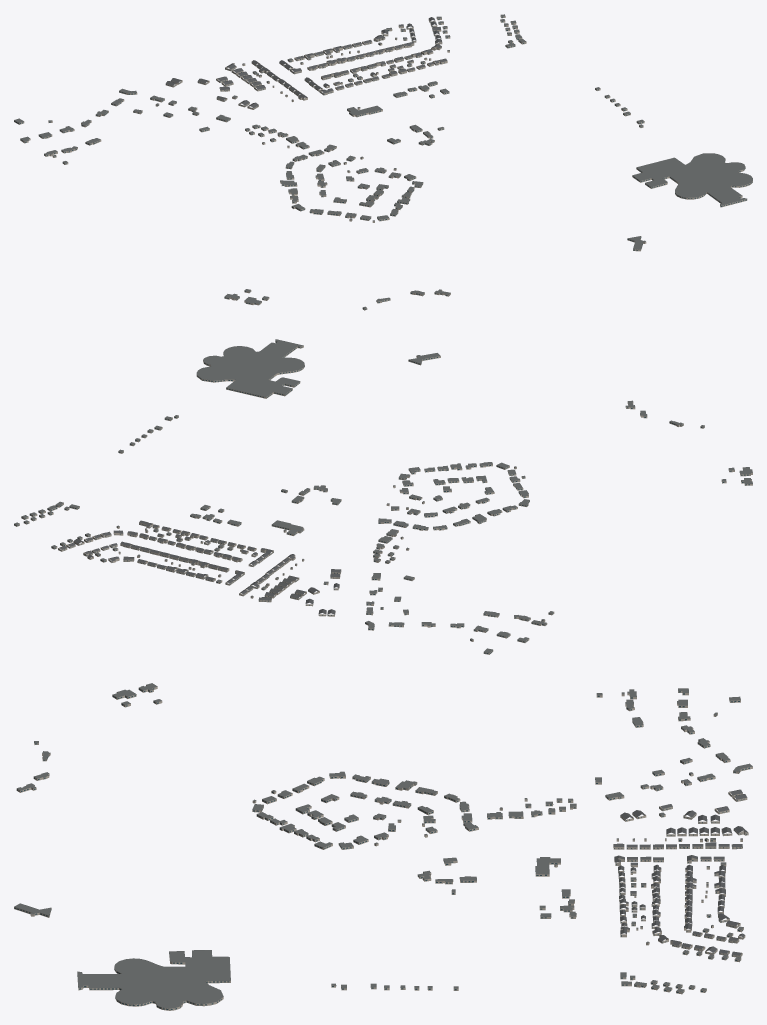
3 renders of one model, top to bottom at view 1: azimuth 30°, elevation 25°; view 2: azimuth 150°, elevation 25°; view 3: azimuth 270°, elevation 25°, orthographic. The views are drawn at different scales.
Parts seen in each view (by area): view 1: Buildings (0, -3) Roof membrane, Buildings (0, -3) Masonry brick, Buildings (0, -3) Roof shingles, Buildings (0, -3) Architectural tinted glass, Buildings (0, -3) House siding; view 2: Buildings (0, -3) Roof membrane, Buildings (0, -3) Masonry brick, Buildings (0, -3) Roof shingles, Buildings (0, -3) Architectural tinted glass, Buildings (0, -3) House siding; view 3: Buildings (0, -3) Roof membrane, Buildings (0, -3) Masonry brick, Buildings (0, -3) Roof shingles, Buildings (0, -3) Architectural tinted glass, Buildings (0, -3) House siding, Buildings (0, -3) Metal coping.
Boxes of the visible parts, <box> form: Buildings (0, -3) Roof membrane: <box>14,14,752,308</box>; Buildings (0, -3) Masonry brick: <box>14,16,752,310</box>; Buildings (0, -3) Roof shingles: <box>166,17,447,107</box>; Buildings (0, -3) Architectural tinted glass: <box>14,16,752,309</box>; Buildings (0, -3) House siding: <box>216,19,442,101</box>; Buildings (0, -3) Roof membrane: <box>14,339,752,652</box>; Buildings (0, -3) Masonry brick: <box>14,341,752,654</box>; Buildings (0, -3) Roof shingles: <box>59,520,340,614</box>; Buildings (0, -3) Architectural tinted glass: <box>14,341,749,653</box>; Buildings (0, -3) House siding: <box>58,534,339,602</box>; Buildings (0, -3) Roof membrane: <box>14,683,752,1008</box>; Buildings (0, -3) Masonry brick: <box>14,685,752,1010</box>; Buildings (0, -3) Roof shingles: <box>613,789,747,955</box>; Buildings (0, -3) Architectural tinted glass: <box>14,688,749,1009</box>; Buildings (0, -3) House siding: <box>614,806,748,957</box>; Buildings (0, -3) Metal coping: <box>14,686,749,1008</box>.
Bounding box in the file's own units: 1064 × 9.68 × 1026.
